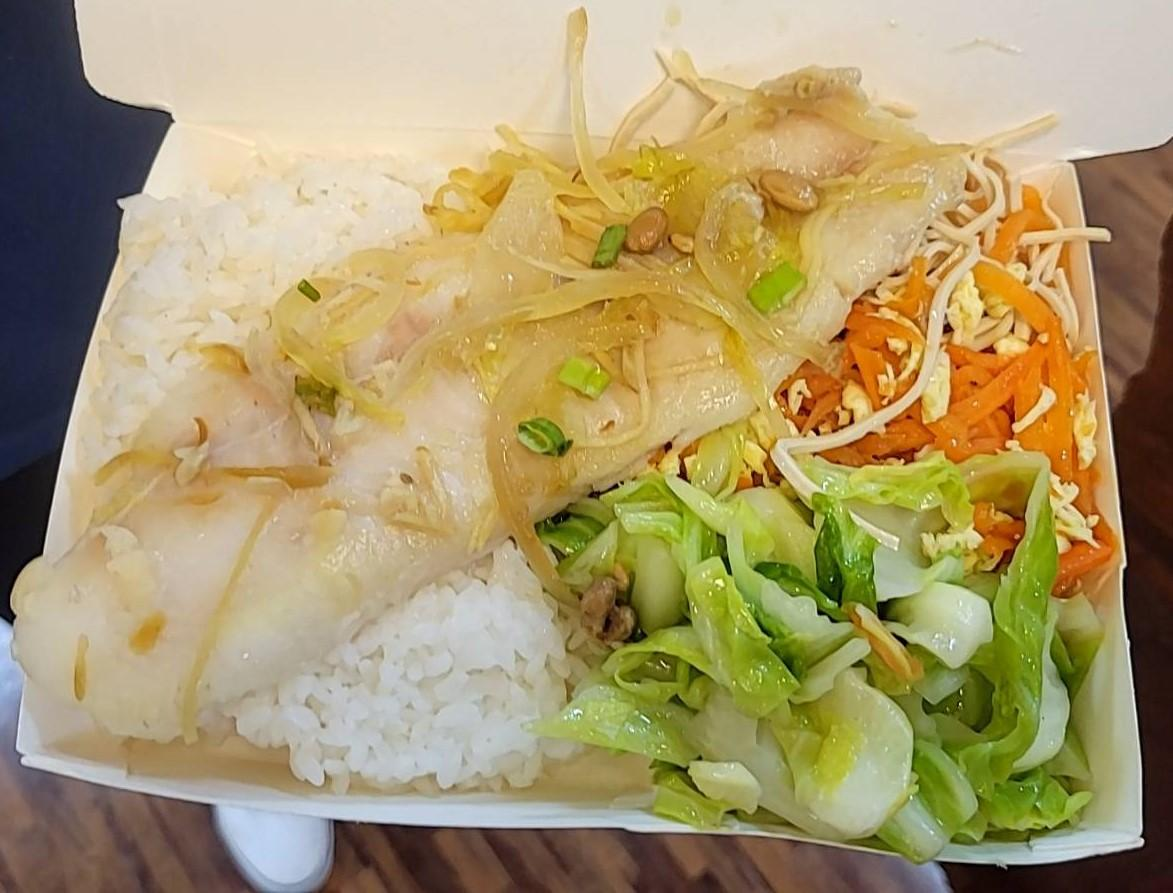big herbal chicken leg: (16, 112, 1168, 877), (88, 144, 610, 784)
braised fish fillet: (558, 464, 1117, 851), (762, 318, 1114, 578), (847, 160, 1082, 323)
braised pork ribs: (20, 63, 978, 728)
